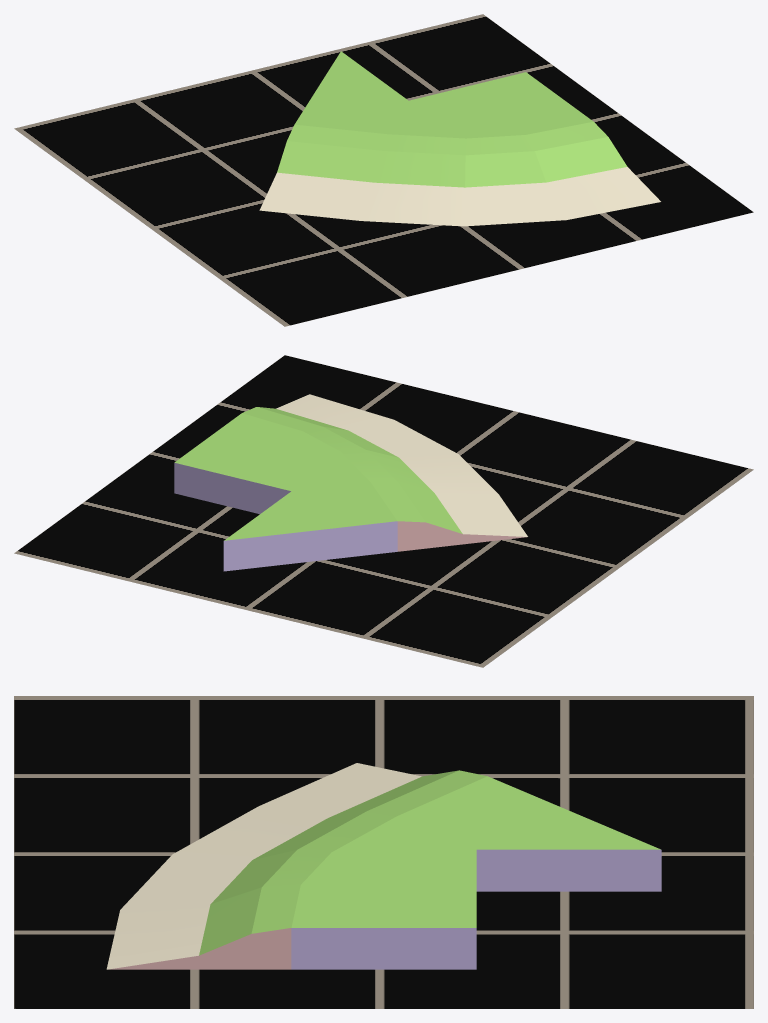
Rendered from Path_Terrain_45_Degrees_Curve_Inner_3x3.glb.
3 views of the same model, one above another, from view 1: azimuth 30°, elevation 25°; view 2: azimuth 150°, elevation 25°; view 3: azimuth 270°, elevation 25° (orthographic). The views are drawn at different scales.
Visible parts, largest first — view 1: Floor, Path_Terrain_45_Degrees_Curve_Inner_3x3; view 2: Floor, Path_Terrain_45_Degrees_Curve_Inner_3x3; view 3: Floor, Path_Terrain_45_Degrees_Curve_Inner_3x3.
Part boxes in pixels (bbox=[...]): Floor: bbox=[14, 14, 753, 326]; Path_Terrain_45_Degrees_Curve_Inner_3x3: bbox=[259, 51, 660, 226]; Floor: bbox=[14, 355, 753, 667]; Path_Terrain_45_Degrees_Curve_Inner_3x3: bbox=[174, 394, 527, 571]; Floor: bbox=[14, 696, 753, 1008]; Path_Terrain_45_Degrees_Curve_Inner_3x3: bbox=[106, 763, 661, 969].
Bounding box in the file's own units: 400 × 25 × 400.
Materials: 6 (1 with a texture image).
